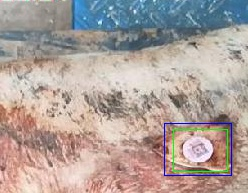text: (173, 129, 227, 171)
